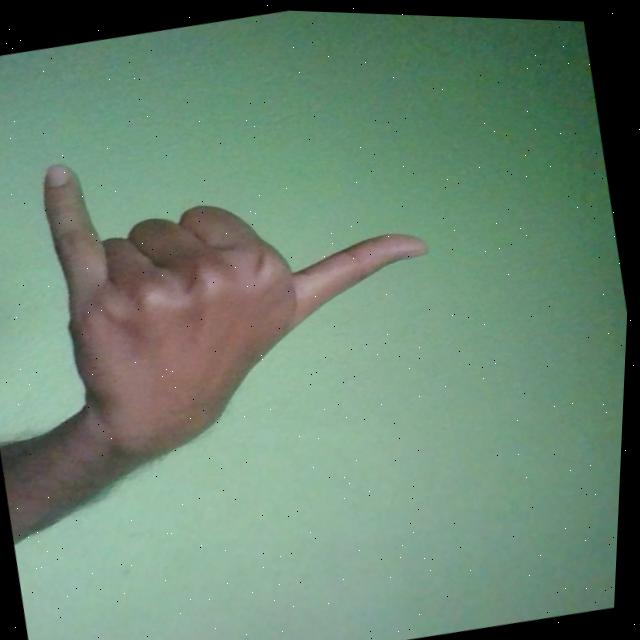Call Me: (27, 96, 466, 488)
